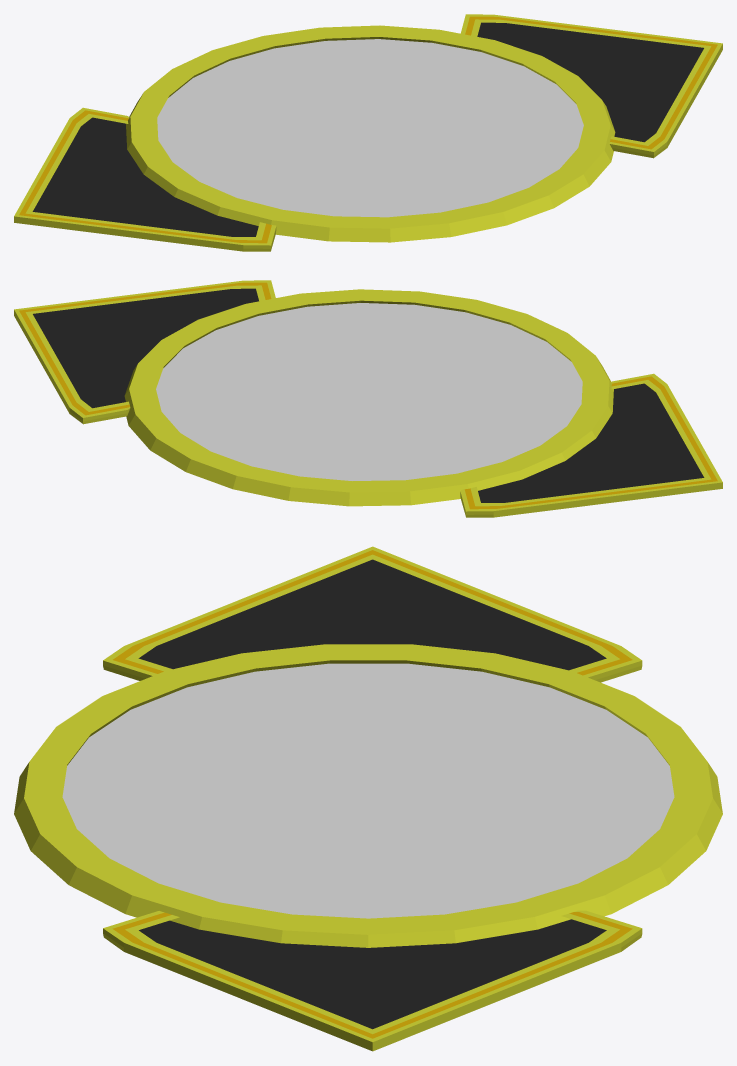
The model's file is arena3.fbx.
3 renders of one model, top to bottom at view 1: azimuth 30°, elevation 25°; view 2: azimuth 150°, elevation 25°; view 3: azimuth 270°, elevation 25°, orthographic. The views are drawn at different scales.
Parts seen in each view (by area): view 1: Cylinder.001, Torus.002, Cube.002, Cube.003; view 2: Cylinder.001, Torus.002, Cube.002, Cube.003; view 3: Cylinder.001, Torus.002, Cube.003, Cube.002.
Boxes of the visible parts, x1=… form: Cylinder.001: x1=157, y1=39, x2=583, y2=217; Torus.002: x1=126, y1=25, x2=615, y2=242; Cube.002: x1=14, y1=107, x2=276, y2=251; Cube.003: x1=460, y1=14, x2=722, y2=158; Cylinder.001: x1=156, y1=303, x2=582, y2=480; Torus.002: x1=124, y1=289, x2=613, y2=506; Cube.002: x1=460, y1=373, x2=722, y2=517; Cube.003: x1=14, y1=280, x2=275, y2=424; Cylinder.001: x1=62, y1=663, x2=674, y2=918; Torus.002: x1=14, y1=644, x2=722, y2=947; Cube.003: x1=103, y1=910, x2=642, y2=1051; Cube.002: x1=103, y1=546, x2=642, y2=682.
Size of the model in its own units: 940 by 21.67 by 568.
